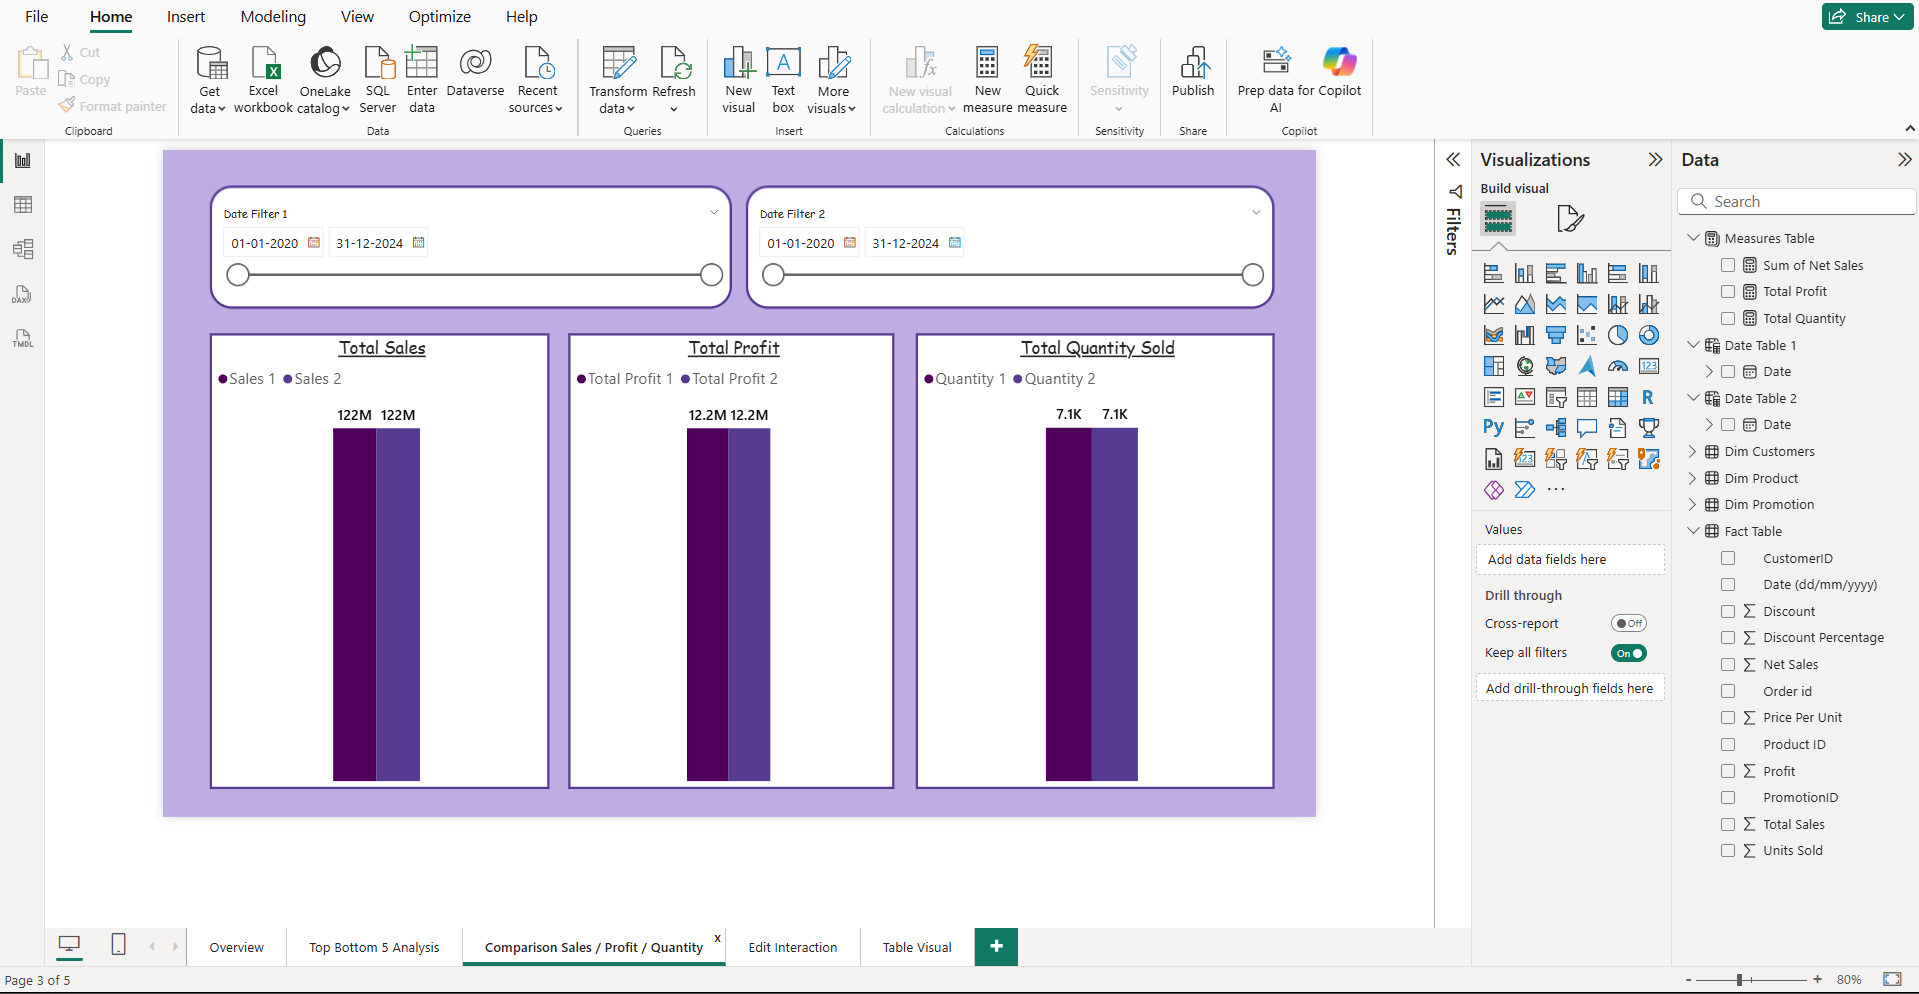

Layout of this report page (visuals, bound fields, positions):
{"tool":"powerbi","page":{"name":"Comparison Sales / Profit / Quantity","canvas":[1280,720],"ordinal":2},"visuals":[{"type":"slicer","fields":{"Values":["Date Table 2.Date"]},"box":[656.5,39.8,595.1,138.6],"z":0},{"type":"slicer","fields":{"Values":["Date Table 1.Date"]},"box":[52.2,39.8,588.3,138.6],"z":1000},{"type":"clusteredColumnChart","title":"Total Sales ","fields":{"Y":["Sum(Fact Table.Net Sales)","Date Table 1.Sum of Net Sales"]},"box":[52.2,206.7,382.7,513.3],"z":2000},{"type":"clusteredColumnChart","title":"Total Profit","fields":{"Y":["Sum(Fact Table.Profit)","Measures Table.Total Profit"]},"box":[456.6,206.7,368,513.3],"z":3000},{"type":"clusteredColumnChart","title":"Total Quantity Sold","fields":{"Y":["Sum(Fact Table.Units Sold)","Measures Table.Total Quantity"]},"box":[847.3,206.7,404.3,513.3],"z":4000}]}

Visuals, with their boxes on the page's 1280x720 design canvas (x1, y1, x2, y2). These are canvas units, not pixel positions in the 1919x994 screenshot, which may show the page scaled, cropped or inside an application window:
slicer - Date Table 2.Date: select_region(656, 40, 1252, 178)
slicer - Date Table 1.Date: select_region(52, 40, 640, 178)
"Total Sales " clusteredColumnChart: select_region(52, 207, 435, 720)
"Total Profit" clusteredColumnChart: select_region(457, 207, 825, 720)
"Total Quantity Sold" clusteredColumnChart: select_region(847, 207, 1252, 720)
